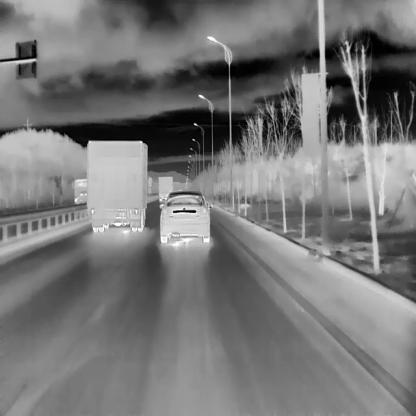car: (159, 189, 211, 243)
truck: (86, 139, 151, 231), (158, 176, 172, 200), (74, 177, 86, 203)
